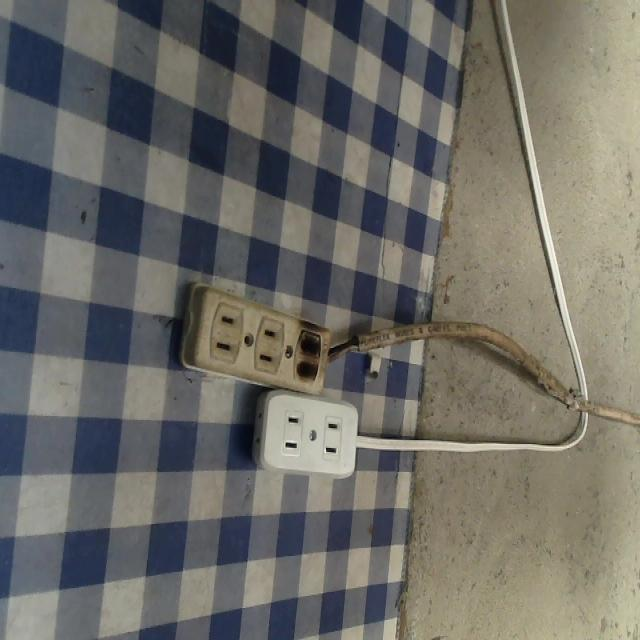-: (289, 320, 328, 385)
